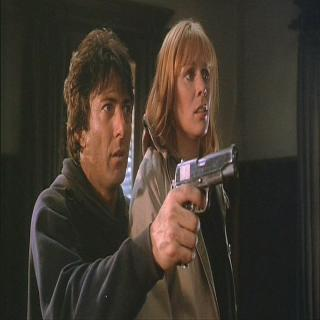gun: (164, 139, 240, 269)
